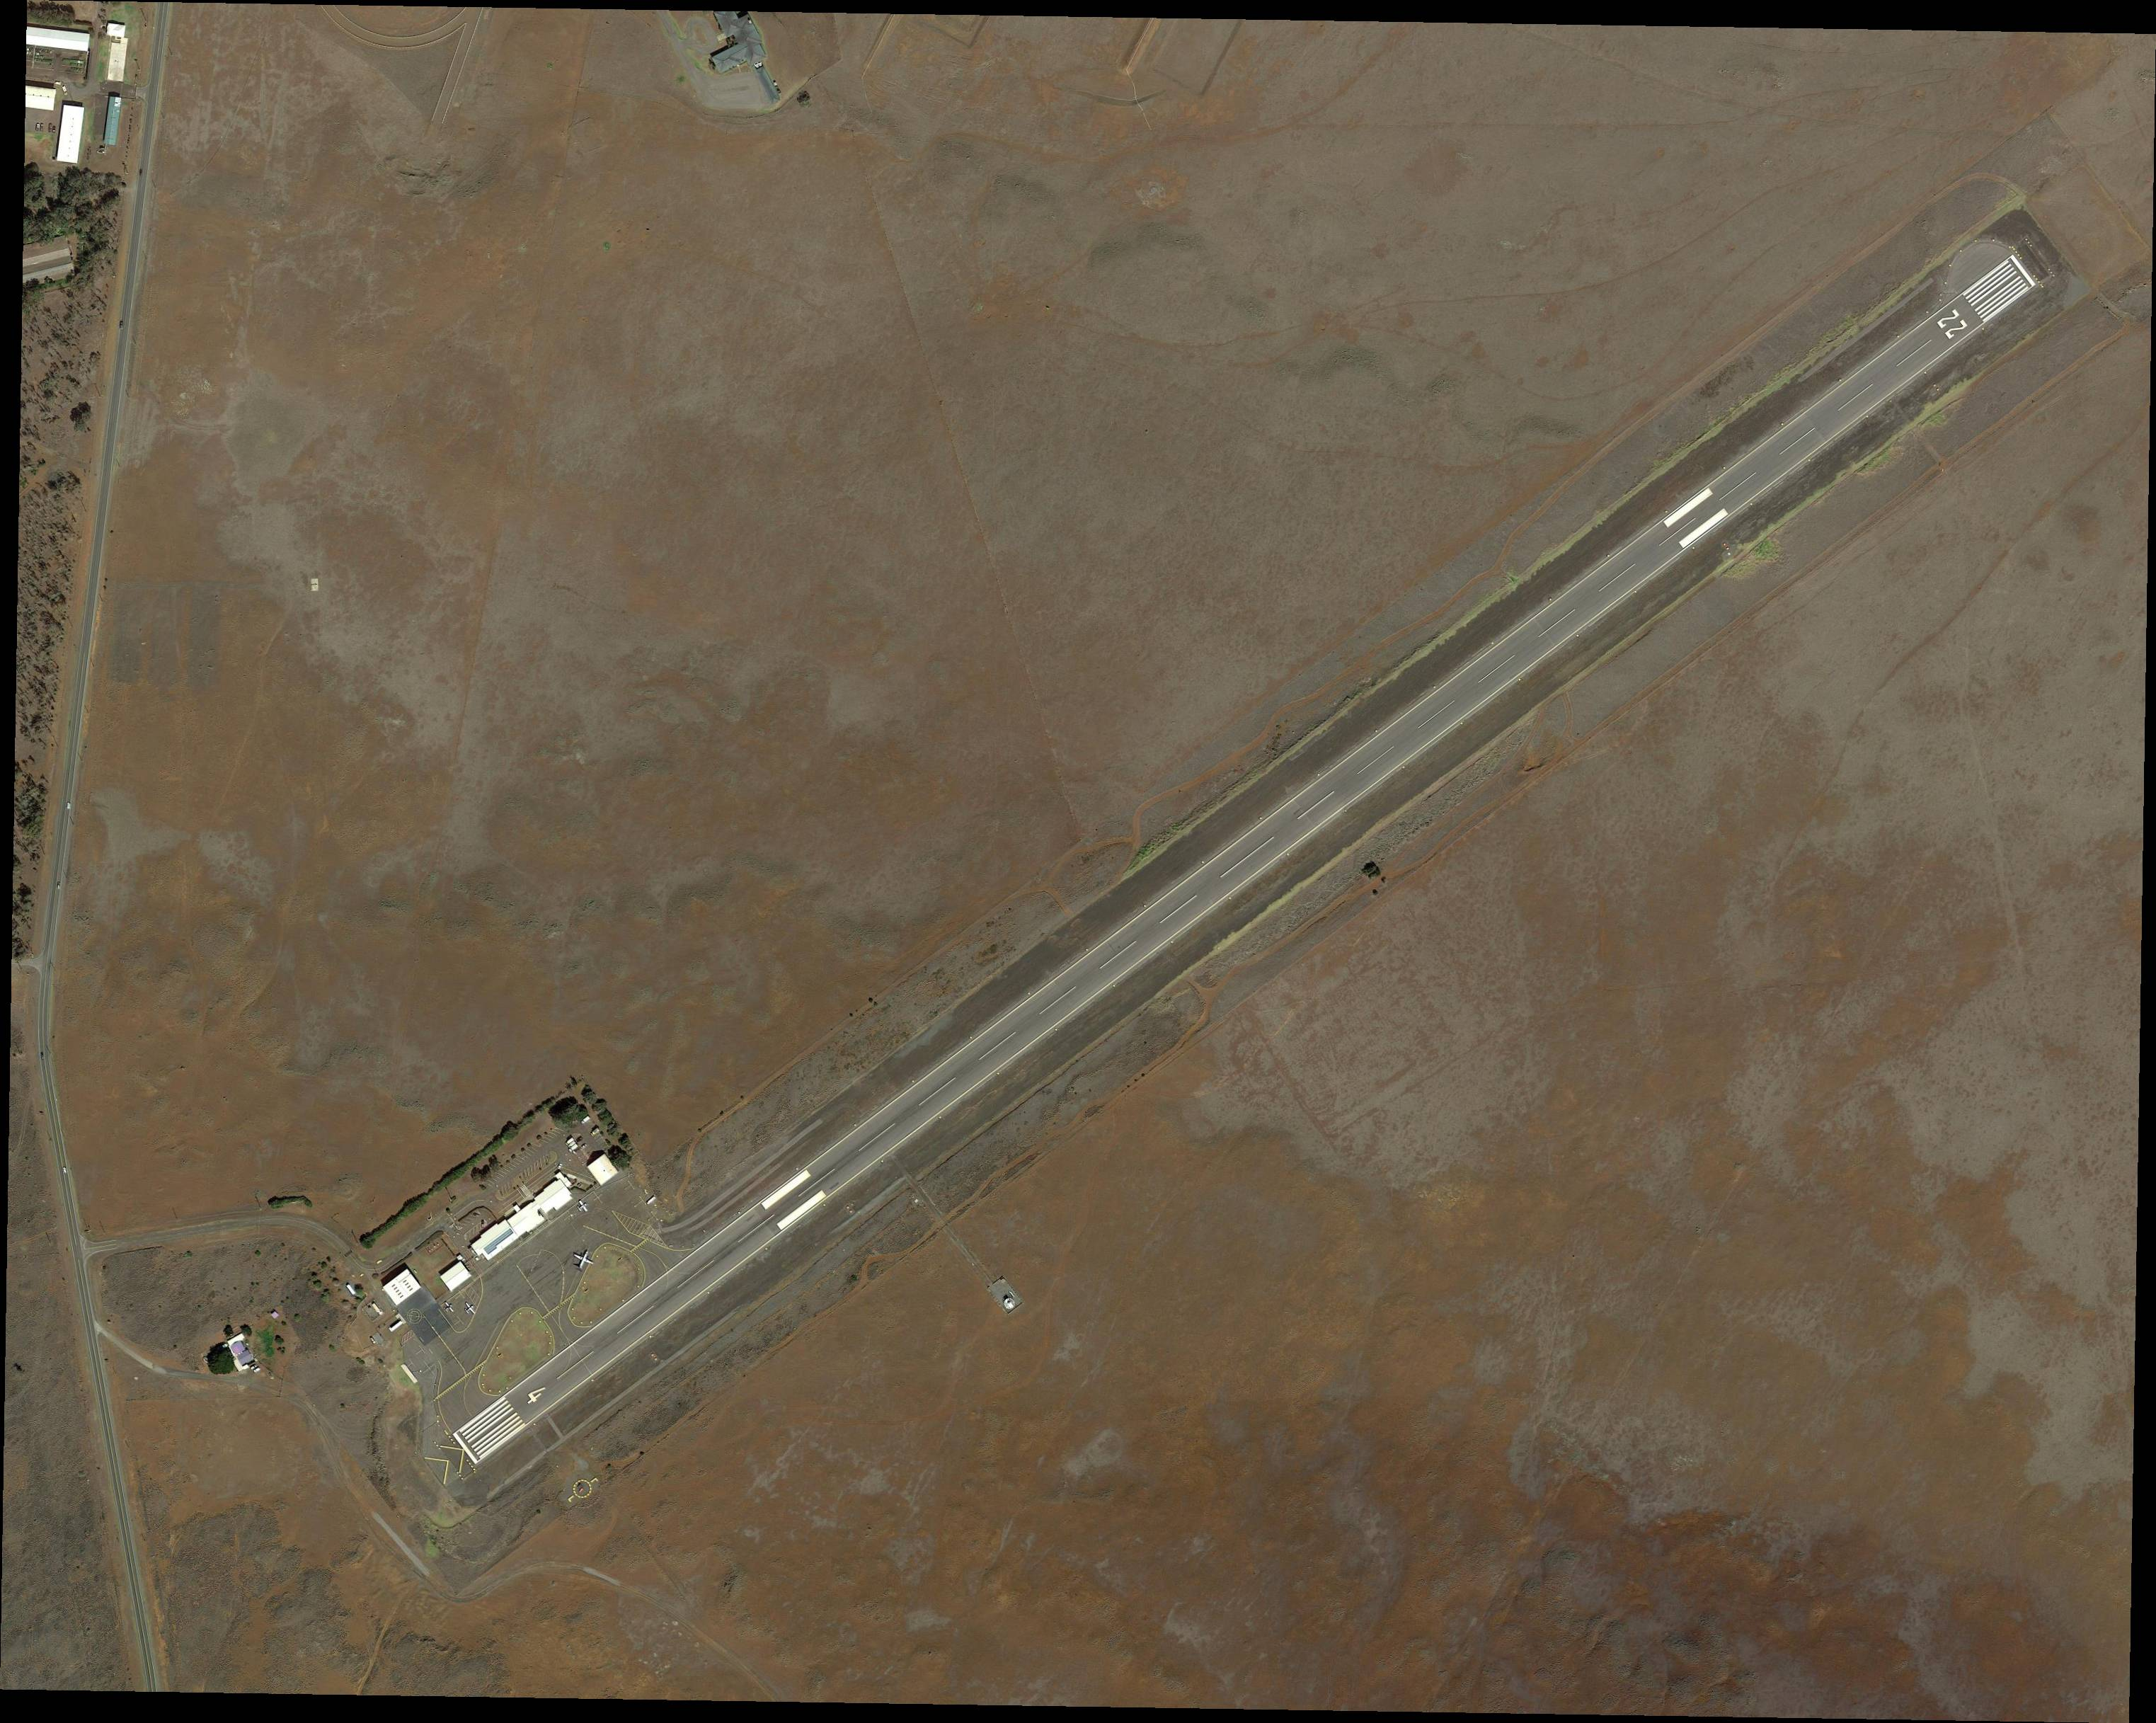large vehicle: (580, 1115, 592, 1125), (569, 1143, 580, 1153), (564, 1138, 575, 1146)
plane: (568, 1247, 597, 1276), (460, 1299, 478, 1319), (575, 1197, 590, 1217), (441, 1301, 455, 1315)
storage tank: (1005, 1298, 1016, 1310)
